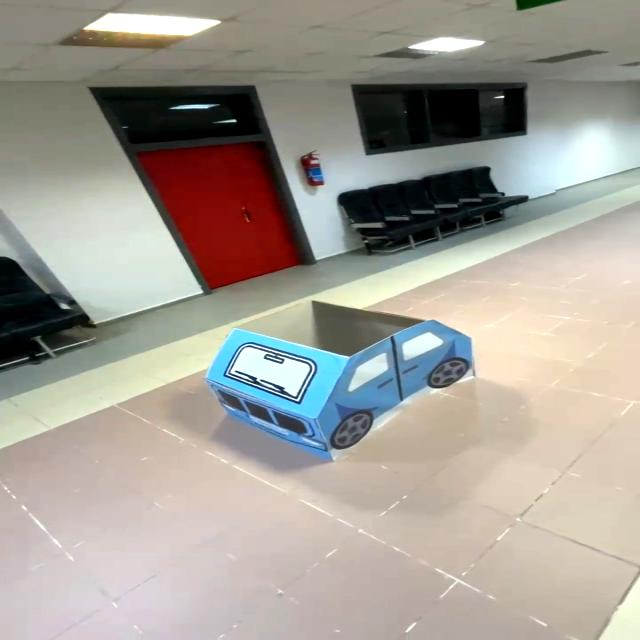blue_car: (166, 291, 504, 475)
